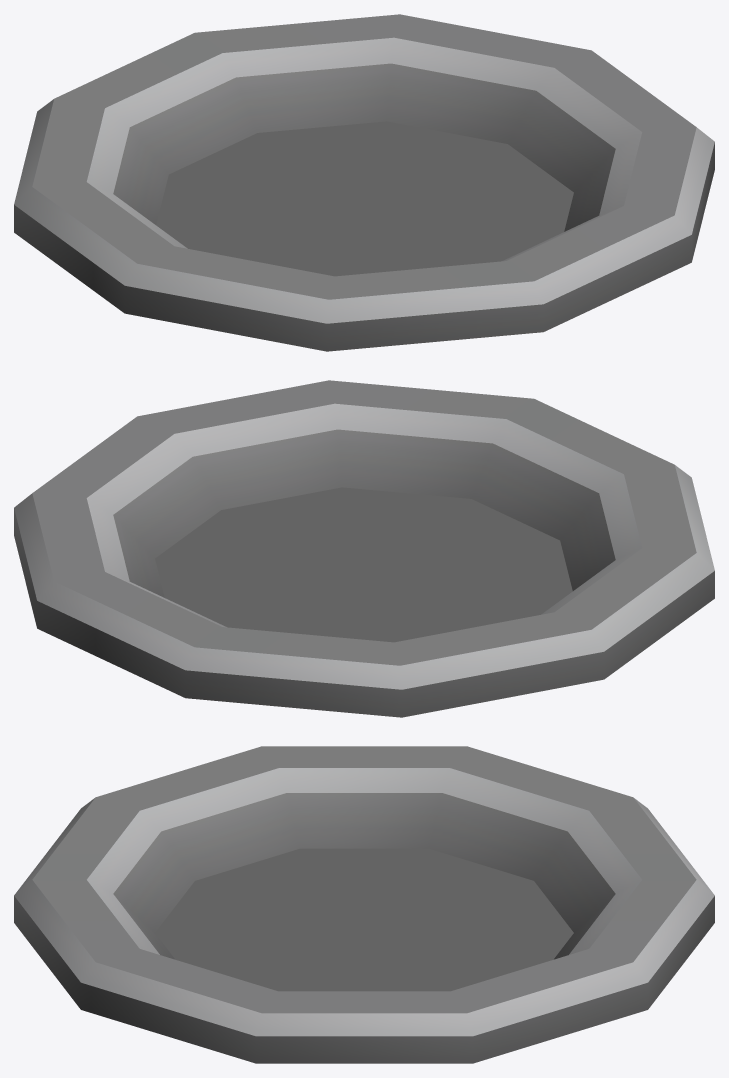
The model's file is Plate_1_A.glb.
3 views of the same model, one above another, from view 1: azimuth 30°, elevation 25°; view 2: azimuth 150°, elevation 25°; view 3: azimuth 270°, elevation 25° (orthographic). The views are drawn at different scales.
Parts seen in each view (by area): view 1: Plate_1_A; view 2: Plate_1_A; view 3: Plate_1_A.
Boxes of the visible parts, x1=… form: Plate_1_A: x1=14, y1=14, x2=714, y2=351; Plate_1_A: x1=14, y1=380, x2=714, y2=717; Plate_1_A: x1=14, y1=746, x2=714, y2=1063.
Bounding box in the file's own units: 0.8458 × 0.0959 × 0.8893.
1 material, 1 textured.
